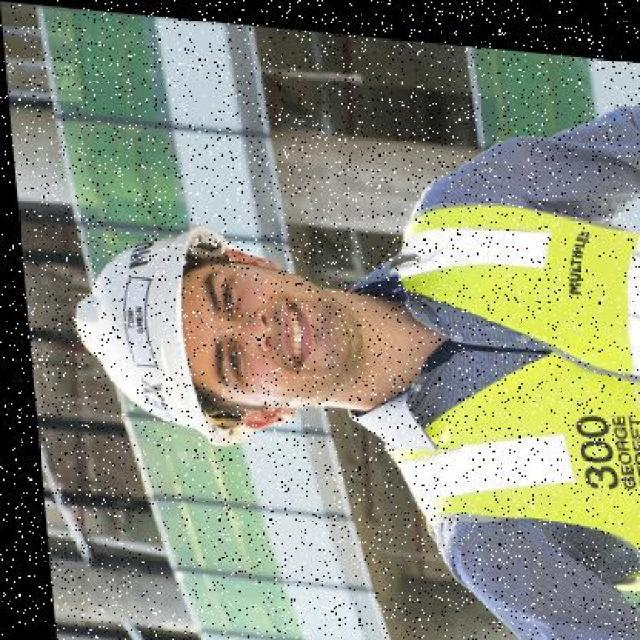helmet: (59, 212, 210, 444)
vest: (346, 202, 638, 519)
